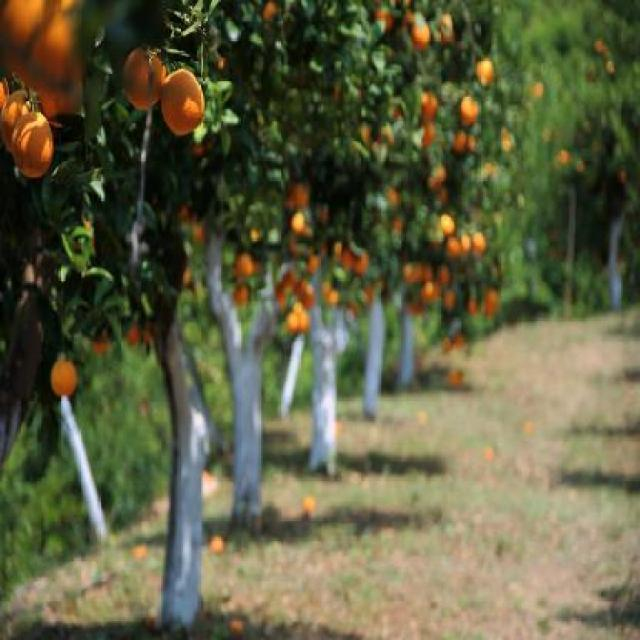Orange: (2, 84, 58, 180), (0, 0, 74, 72), (150, 62, 198, 133), (123, 44, 160, 112), (40, 76, 77, 121), (52, 350, 80, 396), (456, 88, 478, 130), (287, 303, 313, 334), (236, 250, 264, 276), (476, 51, 492, 88), (410, 18, 432, 44), (290, 206, 306, 240), (436, 10, 450, 39), (326, 276, 339, 307), (234, 284, 252, 301)
